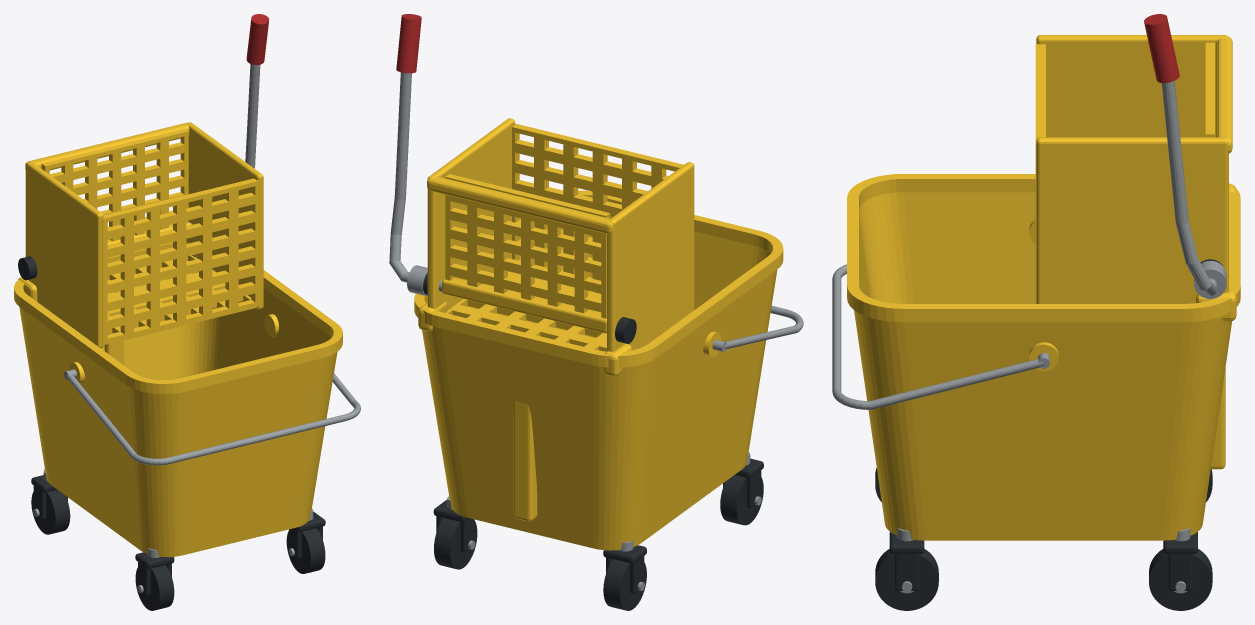
The picture shows the model from 3 angles, left to right: view 1: azimuth 30°, elevation 25°; view 2: azimuth 150°, elevation 25°; view 3: azimuth 270°, elevation 25°; orthographic projection. The views are drawn at different scales.
Parts seen in each view (by area): view 1: Hollow tapered bucket, Perforated fixed wringer front, Wringer side cheek -1, Hinged compression plate, Reinforced open bucket lip, Wringer side cheek 1, Front curved bail handle, Perforated wringer floor, Caster wheel 1_-1, Caster wheel -1_-1, Upper rear bridge, Caster wheel -1_1 (+2 smaller); view 2: Hollow tapered bucket, Hinged compression plate, Wringer side cheek -1, Perforated fixed wringer front, Reinforced open bucket lip, Wringer side cheek 1, Perforated wringer floor, Upper rear bridge, Compression bottom hinge rib, Rear exterior stiffening rib, Bent wringer operating lever, Caster wheel 1_1 (+4 smaller); view 3: Hollow tapered bucket, Wringer side cheek 1, Wringer side cheek -1, Reinforced open bucket lip, Front curved bail handle, Bent wringer operating lever, Caster wheel 1_1, Caster wheel 1_-1, Upper rear bridge, Lever red grip, Perforated fixed wringer front, Hinged compression plate (+5 smaller).
Part boxes in pixels (x1,y1,x2,y2): Hollow tapered bucket: (19, 260, 337, 556); Perforated fixed wringer front: (102, 178, 259, 343); Wringer side cheek -1: (25, 161, 103, 348); Hinged compression plate: (41, 128, 188, 241); Reinforced open bucket lip: (14, 242, 342, 394); Wringer side cheek 1: (186, 122, 263, 309); Front curved bail handle: (66, 373, 360, 465); Perforated wringer floor: (103, 255, 256, 344); Caster wheel 1_-1: (286, 528, 325, 573); Caster wheel -1_-1: (135, 565, 174, 610); Upper rear bridge: (25, 122, 189, 170); Caster wheel -1_1: (31, 489, 70, 534); Hollow tapered bucket: (422, 216, 777, 550); Hinged compression plate: (445, 174, 610, 318); Wringer side cheek -1: (607, 162, 694, 351); Perforated fixed wringer front: (512, 123, 683, 280); Reinforced open bucket lip: (414, 190, 783, 367); Wringer side cheek 1: (427, 118, 514, 310); Perforated wringer floor: (446, 271, 606, 351); Upper rear bridge: (427, 176, 613, 234); Compression bottom hinge rib: (442, 277, 606, 333); Rear exterior stiffening rib: (513, 401, 537, 521); Bent wringer operating lever: (389, 72, 411, 282); Caster wheel 1_1: (434, 518, 477, 569); Hollow tapered bucket: (854, 192, 1231, 540); Wringer side cheek 1: (1036, 137, 1228, 303); Wringer side cheek -1: (1036, 35, 1227, 137); Reinforced open bucket lip: (847, 174, 1240, 322); Front curved bail handle: (832, 264, 1044, 409); Bent wringer operating lever: (1161, 81, 1216, 295); Caster wheel 1_1: (1149, 549, 1212, 610); Caster wheel 1_-1: (875, 549, 938, 610); Upper rear bridge: (1216, 36, 1232, 153); Lever red grip: (1144, 14, 1179, 82); Perforated fixed wringer front: (1035, 43, 1045, 303); Hinged compression plate: (1205, 42, 1214, 137).
Bounding box in the file's own units: 0.502 × 0.9251 × 0.552.
